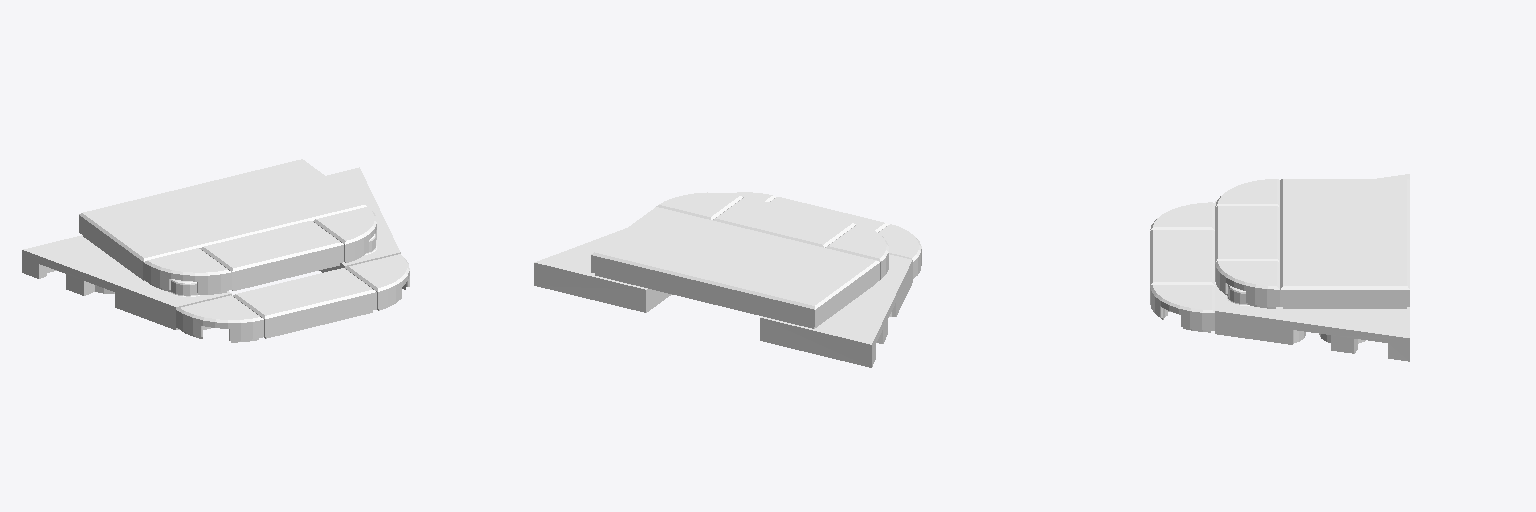
The model's file is motorhaube_weiß.obj.
3 views of the same model, side by side, from view 1: azimuth 30°, elevation 25°; view 2: azimuth 150°, elevation 25°; view 3: azimuth 270°, elevation 25° (orthographic).
Visible parts, largest first — view 1: Part.135, Part.117, Part.68, Part.69, Part.28, Part.30, Part.118, Part.27, Part.29; view 2: Part.135, Part.117, Part.118, Part.69, Part.30, Part.29, Part.28, Part.68; view 3: Part.135, Part.118, Part.68, Part.69, Part.27, Part.29, Part.28, Part.30.
Boxes of the visible parts, x1,y1,x2,y2 form: Part.135: [79, 159, 366, 280]; Part.117: [22, 235, 231, 329]; Part.68: [233, 268, 376, 338]; Part.69: [200, 221, 343, 290]; Part.28: [176, 295, 263, 342]; Part.30: [143, 248, 231, 294]; Part.118: [319, 167, 400, 272]; Part.27: [345, 254, 409, 310]; Part.29: [313, 207, 376, 262]; Part.135: [591, 207, 879, 328]; Part.117: [760, 254, 912, 367]; Part.118: [534, 228, 671, 312]; Part.69: [713, 197, 855, 247]; Part.30: [826, 224, 888, 280]; Part.29: [656, 192, 743, 219]; Part.28: [879, 224, 921, 278]; Part.68: [769, 197, 888, 232]; Part.135: [1280, 179, 1409, 308]; Part.118: [1215, 284, 1409, 361]; Part.68: [1150, 230, 1214, 285]; Part.69: [1215, 206, 1279, 261]; Part.27: [1150, 285, 1214, 332]; Part.29: [1215, 261, 1279, 308]; Part.28: [1150, 202, 1214, 230]; Part.30: [1215, 179, 1279, 206].
Bounding box in the file's own units: 47.92 × 6.36 × 31.96.